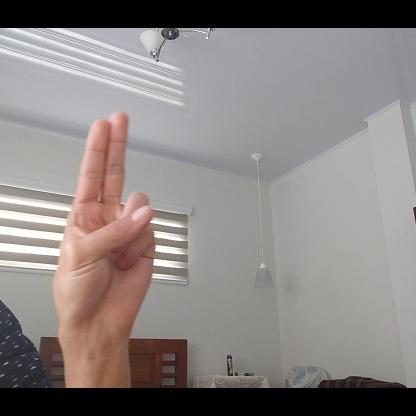U: (51, 112, 157, 344)
